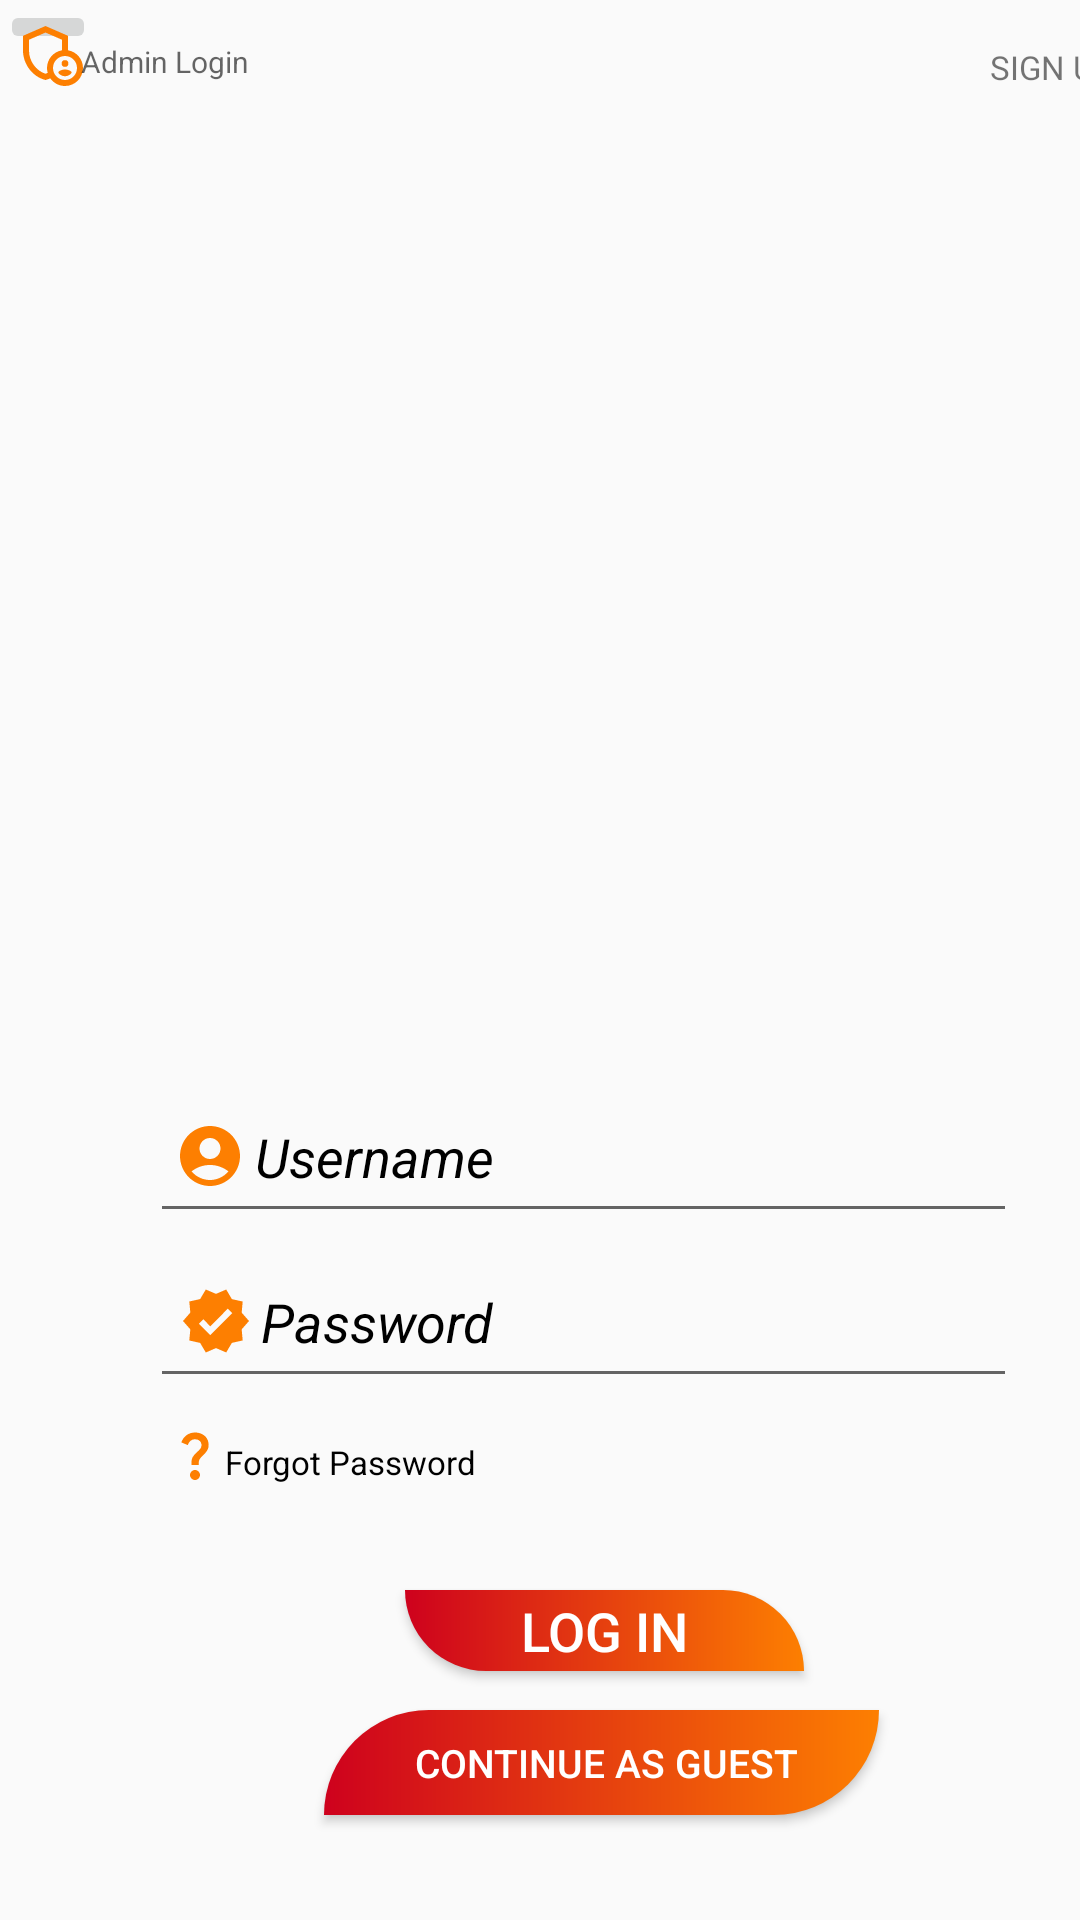

Icon click points for this 1080 × 1920 phone screenshot, format (x=x, y=y):
question mark: (x=195, y=1456)
